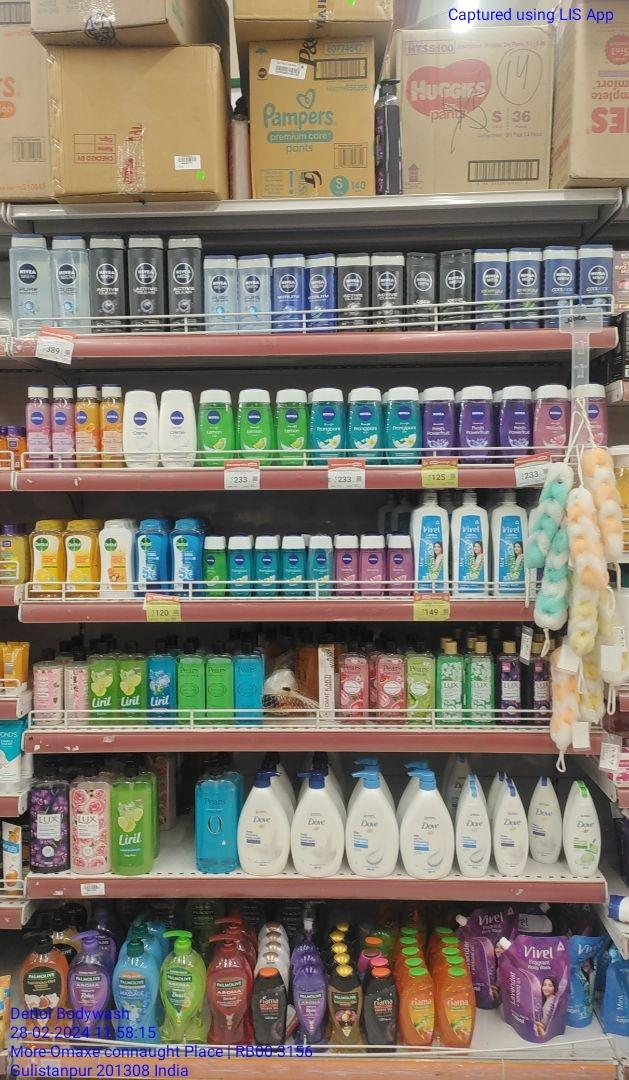Nivea_Creme_Soft_Body_Wash_250ML: (159, 388, 196, 469), (122, 387, 158, 468)
Nivea_Shower_Gel_Frangipani_and_Oil_250ML: (348, 384, 383, 467), (312, 385, 346, 468), (386, 386, 421, 466)
Nivea_Shower_Gel_Fresh_Powerfruit_250ML: (459, 384, 494, 465), (424, 384, 456, 467), (498, 383, 530, 464)
Nivea_Shower_Gel_Lemon_and_Oil_250ML: (237, 385, 273, 467), (199, 386, 234, 468), (276, 386, 307, 467)
Nivea_Shower_Gel_Waterlily_and_Oil_250ML: (533, 381, 567, 461)
